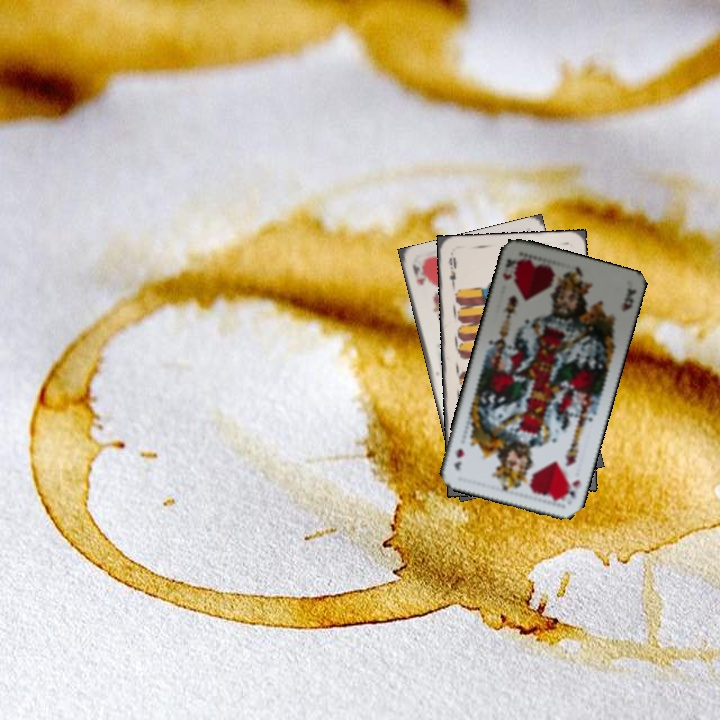E9: (444, 253, 459, 291)
HK: (498, 254, 522, 285), (560, 475, 584, 503), (408, 260, 429, 287)
